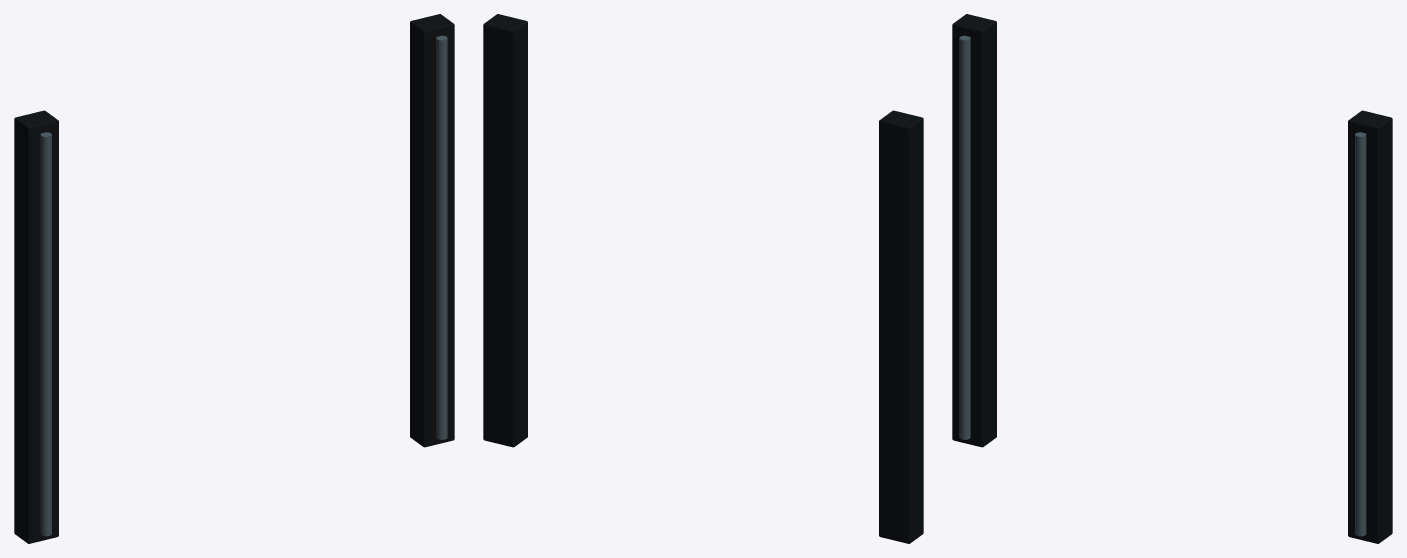
Rendered from y_rails.obj.
3 renders of one model, left to right at view 1: azimuth 30°, elevation 25°; view 2: azimuth 150°, elevation 25°; view 3: azimuth 330°, elevation 25°, orthographic.
Visible parts, largest first — view 1: flex__y_rails__rail_bed.001, flex__y_rails__rail_bed, flex__y_rails__linear_rail, flex__y_rails__linear_rail.001; view 2: flex__y_rails__rail_bed, flex__y_rails__rail_bed.001; view 3: flex__y_rails__rail_bed, flex__y_rails__rail_bed.001, flex__y_rails__linear_rail.001, flex__y_rails__linear_rail.
Boxes of the visible parts, x1,y1,x2,y2 form: flex__y_rails__rail_bed.001: (410,14,454,447); flex__y_rails__rail_bed: (14,110,58,543); flex__y_rails__linear_rail: (40,132,51,536); flex__y_rails__linear_rail.001: (436,35,447,439); flex__y_rails__rail_bed: (879,110,923,543); flex__y_rails__rail_bed.001: (483,14,527,447); flex__y_rails__rail_bed: (952,14,996,447); flex__y_rails__rail_bed.001: (1348,110,1392,543); flex__y_rails__linear_rail.001: (1355,132,1366,536); flex__y_rails__linear_rail: (959,35,970,439).
Bounding box in the file's own units: 0.615 × 0.574 × 0.049.
